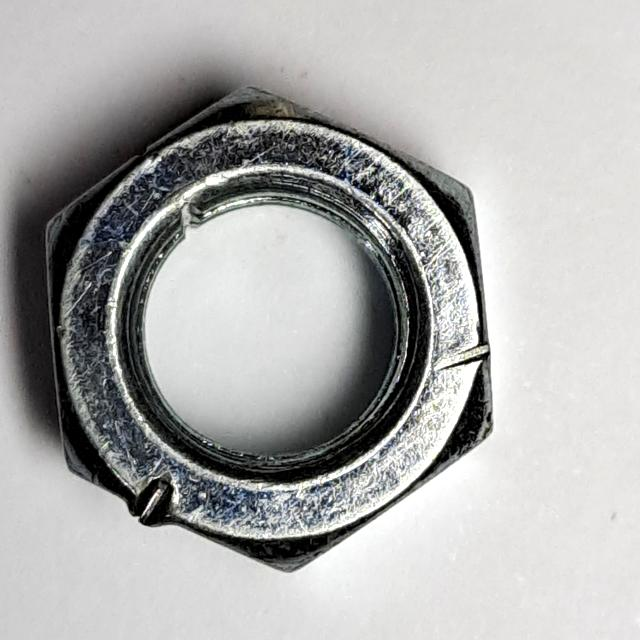Scratches: (36, 68, 513, 585)
